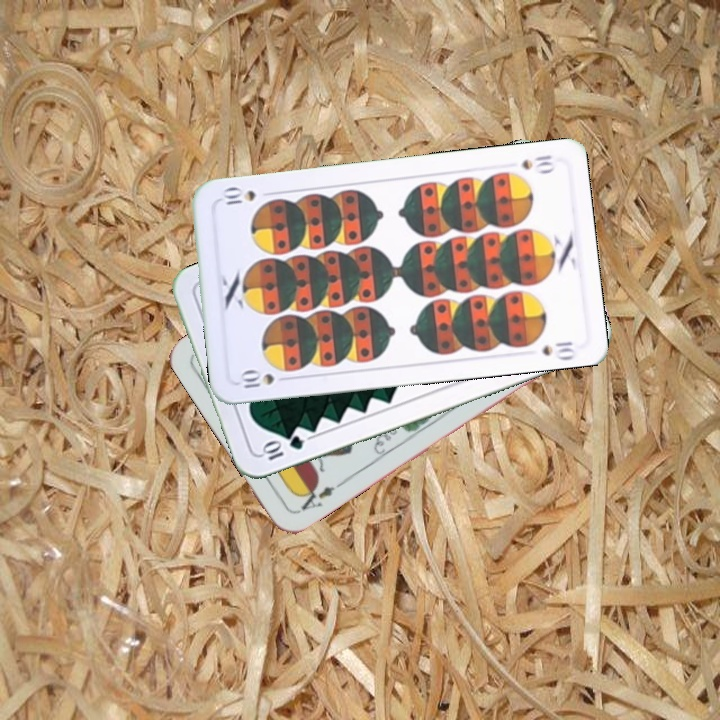EA: (294, 477, 346, 516)
G10: (258, 431, 307, 463)
S10: (236, 367, 293, 391), (517, 151, 558, 176)
